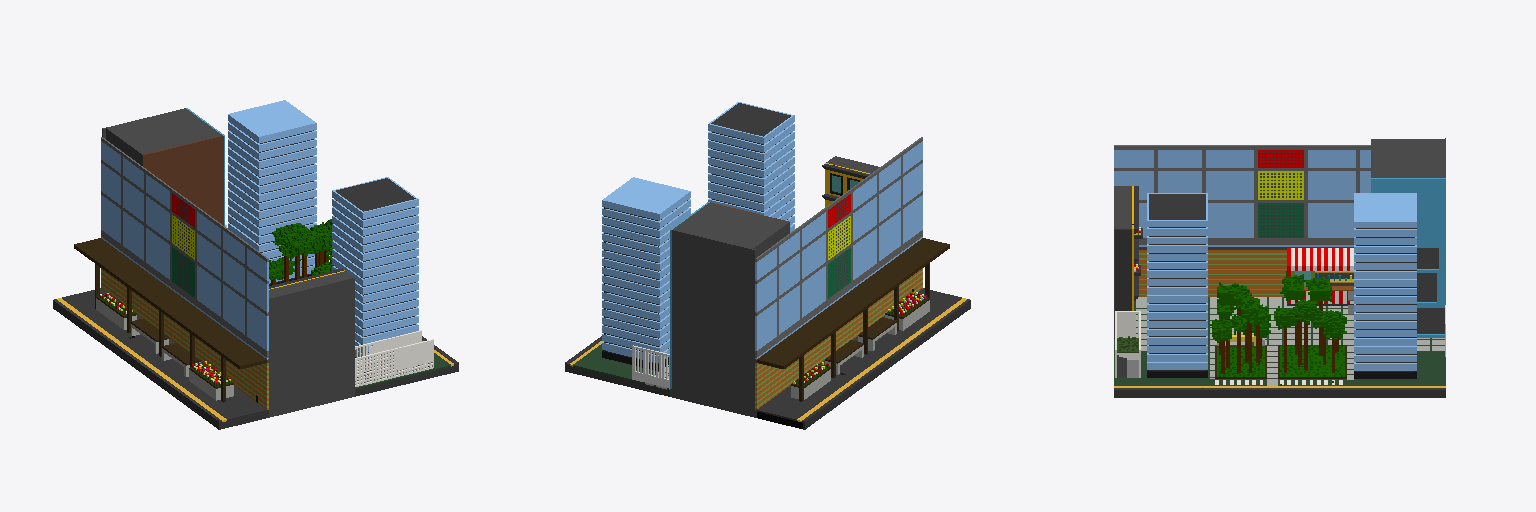
The picture shows the model from 3 angles: view 1: azimuth 30°, elevation 25°; view 2: azimuth 150°, elevation 25°; view 3: azimuth 270°, elevation 25°; orthographic projection.
Visible parts, largest first — view 1: object 1; view 2: object 1; view 3: object 1.
Part boxes in pixels (bbox=[...]): object 1: bbox=[53, 100, 458, 429]; object 1: bbox=[565, 102, 970, 429]; object 1: bbox=[1114, 138, 1445, 397].
Size of the model in its own units: 15 by 10 by 18.
Materials: 1 (1 with a texture image).